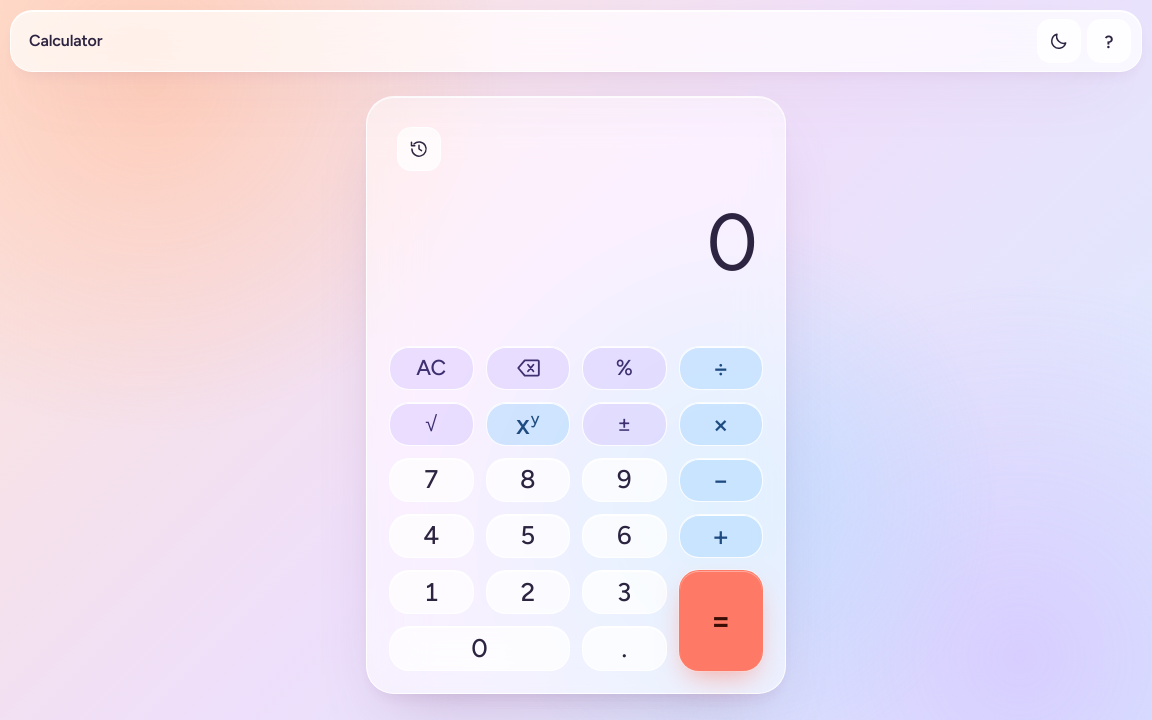
it: theme › the toggle switches it, remembers the choice, and the choice beats the system
Click the button named "Switch to dark theme (Aurora Night)".
click(1059, 41)  # box [1037,19,1081,63]
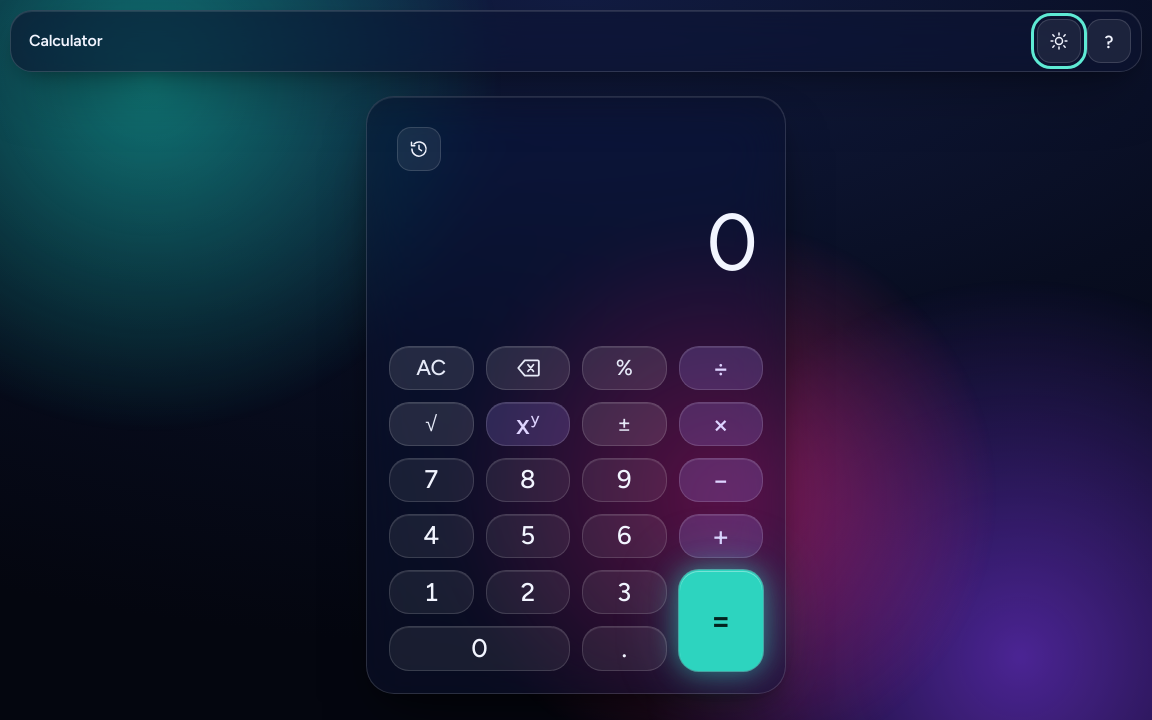
Result: the button named "Switch to light theme (Pastel Morning)" is shown at [1037,19,1081,63]
